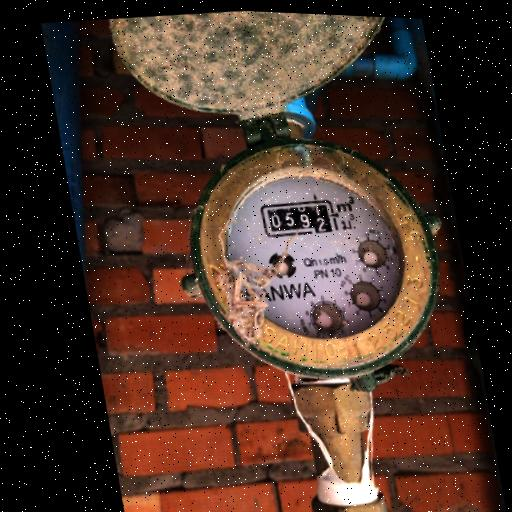0: (266, 207, 284, 232)
1: (309, 203, 333, 236)
5: (279, 206, 299, 232)
9: (292, 204, 315, 230)
border_water_meter_number: (257, 194, 340, 242)
